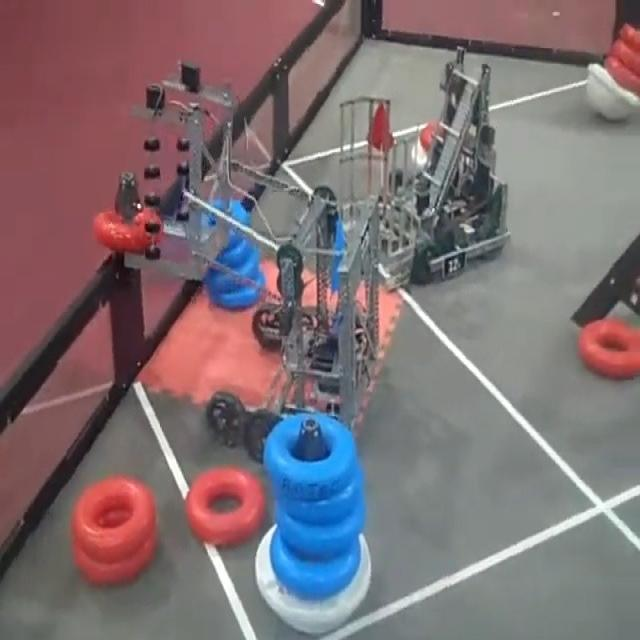Blue-Ring: (264, 413, 358, 499), (276, 472, 365, 559), (270, 525, 361, 599), (279, 472, 364, 522), (201, 245, 264, 291), (199, 274, 267, 312), (200, 196, 251, 245), (217, 235, 255, 265)
Red-Ring: (71, 475, 155, 562), (186, 467, 265, 545), (74, 534, 156, 585), (579, 318, 640, 378), (94, 207, 161, 252), (604, 59, 640, 95), (606, 39, 640, 77), (621, 22, 640, 56)
